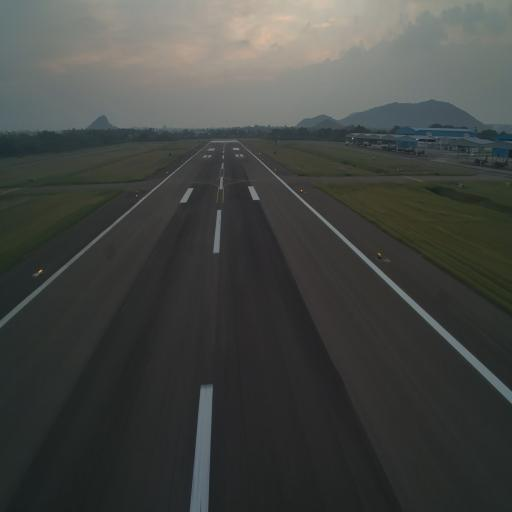on: (36, 268, 44, 280), (376, 250, 383, 260), (134, 192, 140, 201), (299, 187, 304, 194)
